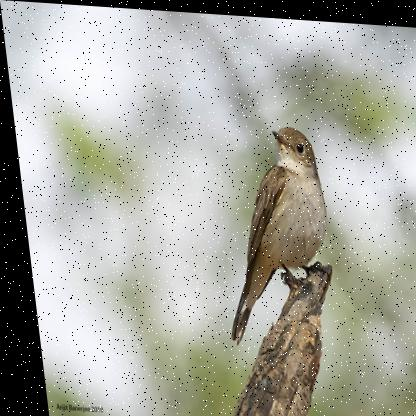Burung: (203, 115, 334, 344)
